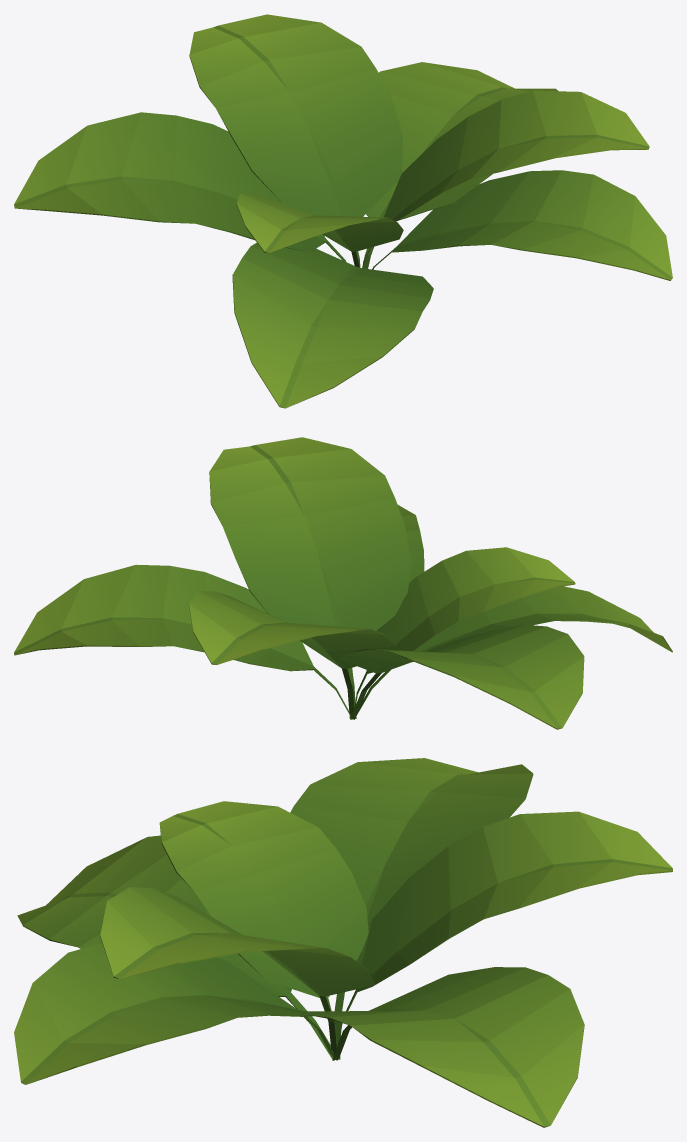
Rendered from Plant_01.fbx.
The picture shows the model from 3 angles, top to bottom: view 1: azimuth 30°, elevation 25°; view 2: azimuth 150°, elevation 25°; view 3: azimuth 270°, elevation 25°; orthographic projection. The views are drawn at different scales.
Visible parts, largest first — view 1: Plant_01; view 2: Plant_01; view 3: Plant_01.
Part boxes in pixels (x1,y1,x2,y2): Plant_01: [14, 14, 672, 408]; Plant_01: [14, 437, 672, 729]; Plant_01: [14, 758, 672, 1127].
Size of the model in its own units: 0.9514 by 0.3086 by 0.8536.
